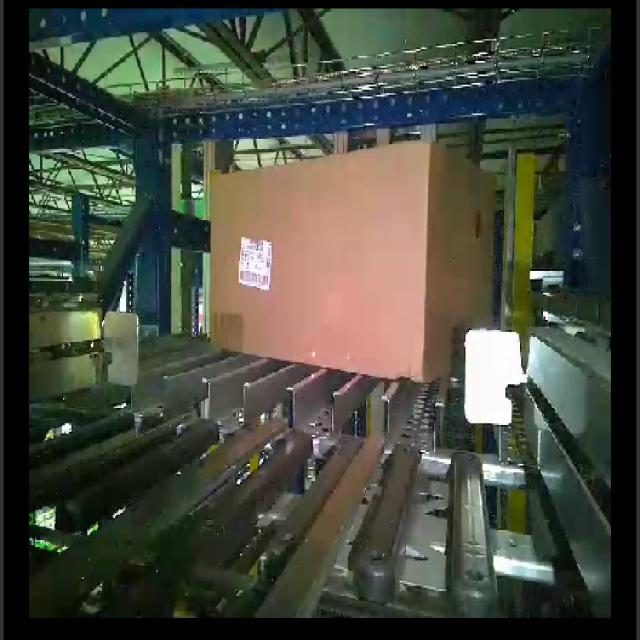box: (210, 138, 432, 384)
